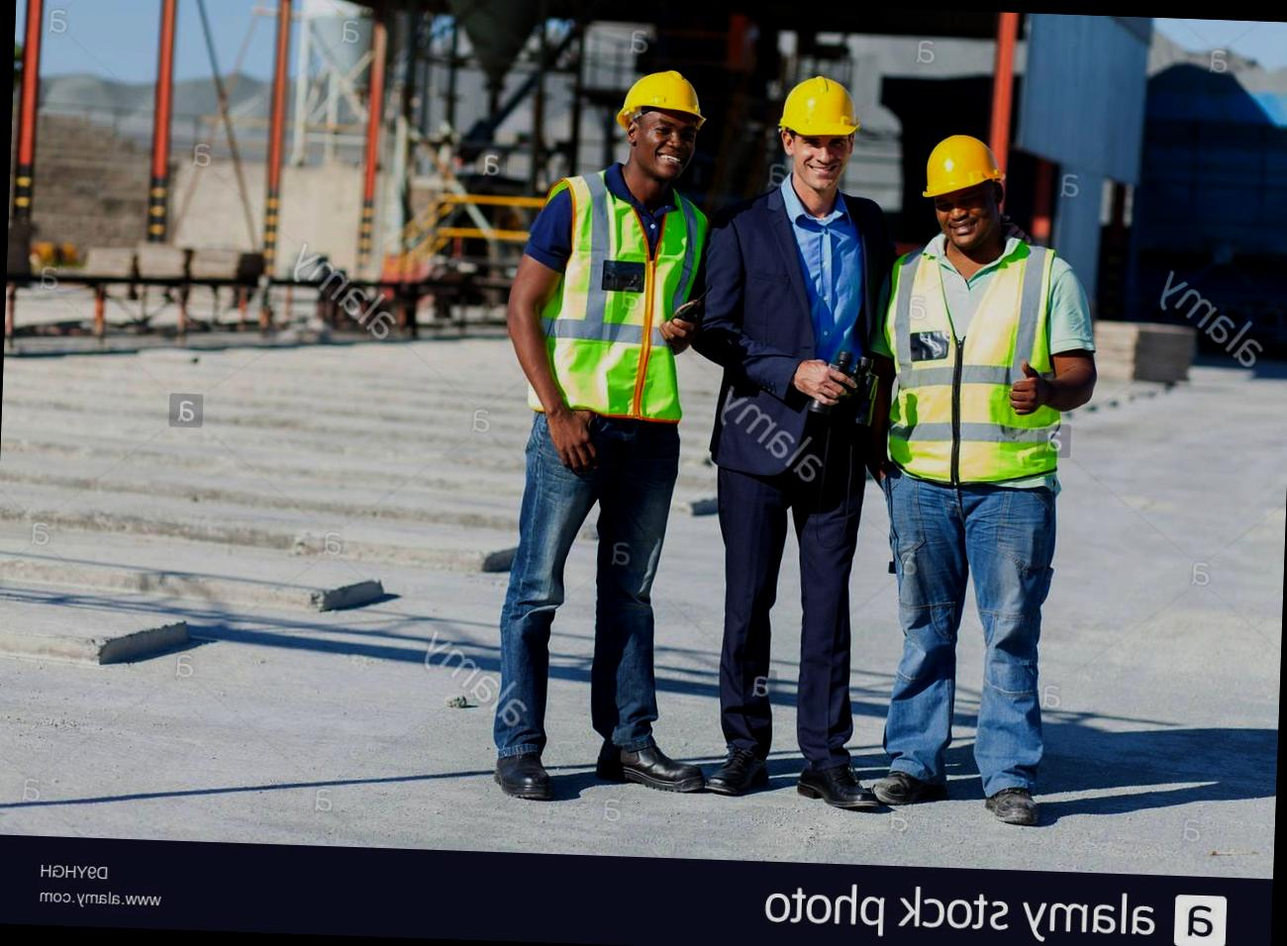helmet: (912, 124, 1013, 216), (770, 75, 870, 149), (615, 64, 712, 135)
no_vest: (721, 190, 876, 514)
person: (480, 61, 710, 825), (857, 116, 1103, 829), (683, 63, 891, 825)
